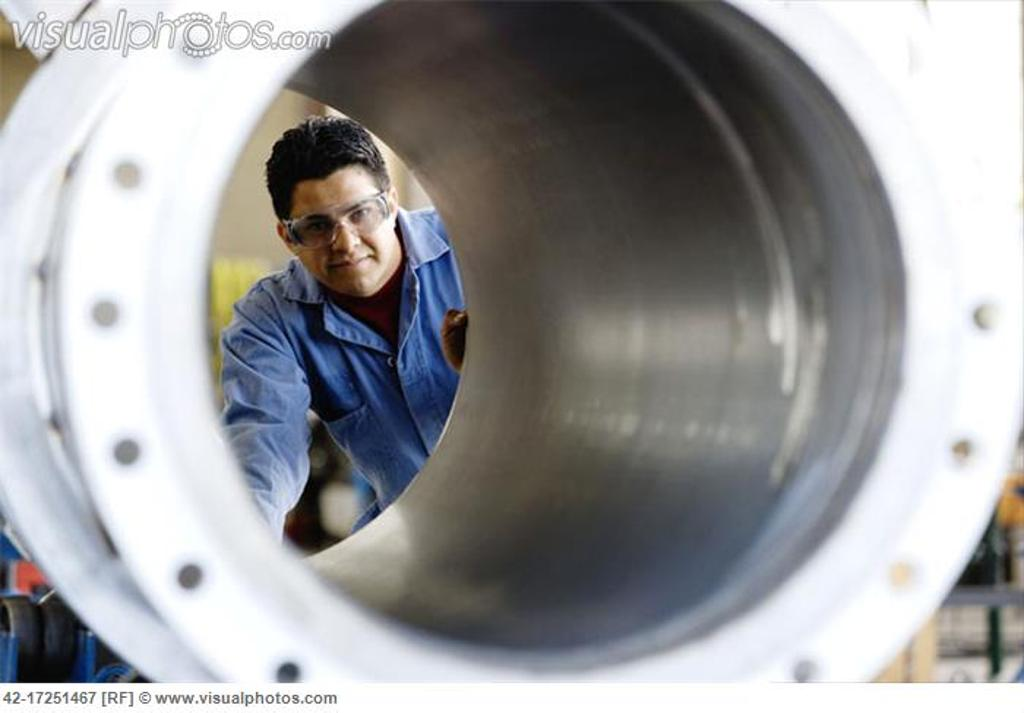face: (290, 172, 378, 290)
